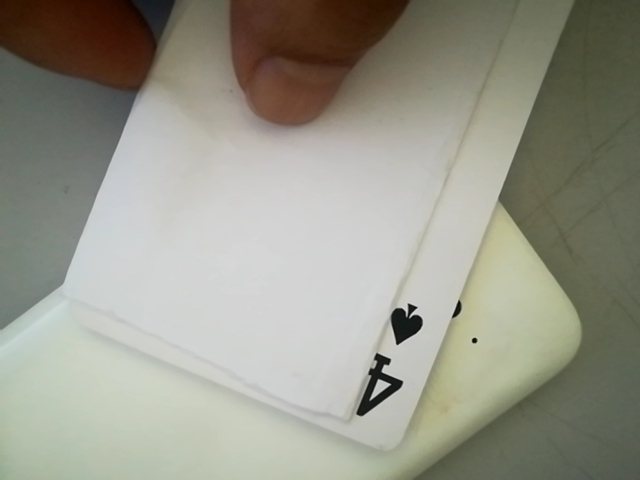ht 4: (342, 288, 440, 433)
